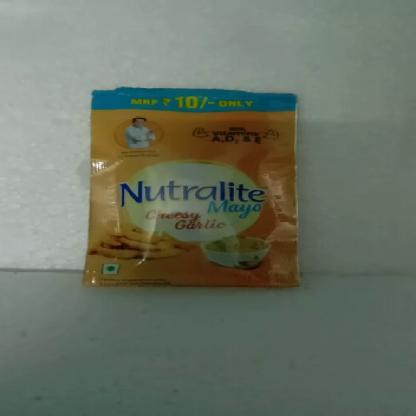Nutralite CHEESY GARLIC MAYO 30g: (95, 91, 302, 288)
